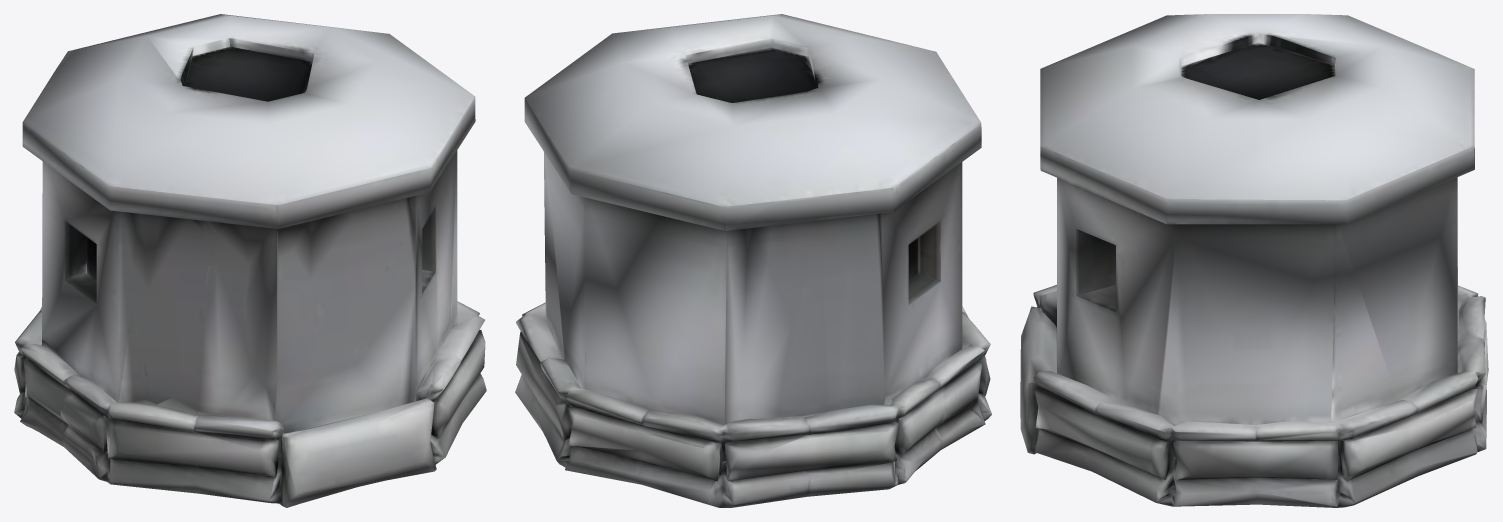
Rendered from prop_bunker.glb.
3 renders of one model, left to right at view 1: azimuth 30°, elevation 25°; view 2: azimuth 150°, elevation 25°; view 3: azimuth 270°, elevation 25°, orthographic. The views are drawn at different scales.
Parts seen in each view (by area): view 1: node_0; view 2: node_0; view 3: node_0.
Part boxes in pixels (bbox=[...]): node_0: bbox=[14, 14, 486, 507]; node_0: bbox=[515, 14, 991, 507]; node_0: bbox=[1020, 14, 1488, 507].
Bounding box in the file's own units: 0.8774 × 0.7473 × 0.9028.
Materials: 1 (1 with a texture image).
